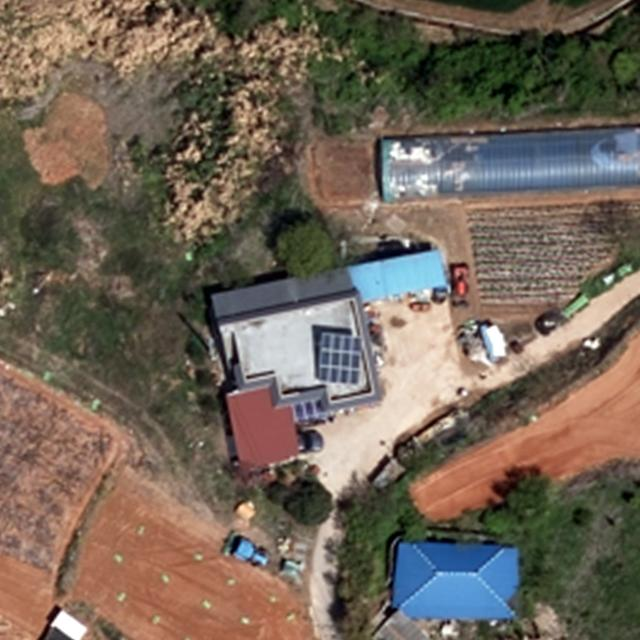panel: (315, 328, 362, 386)
